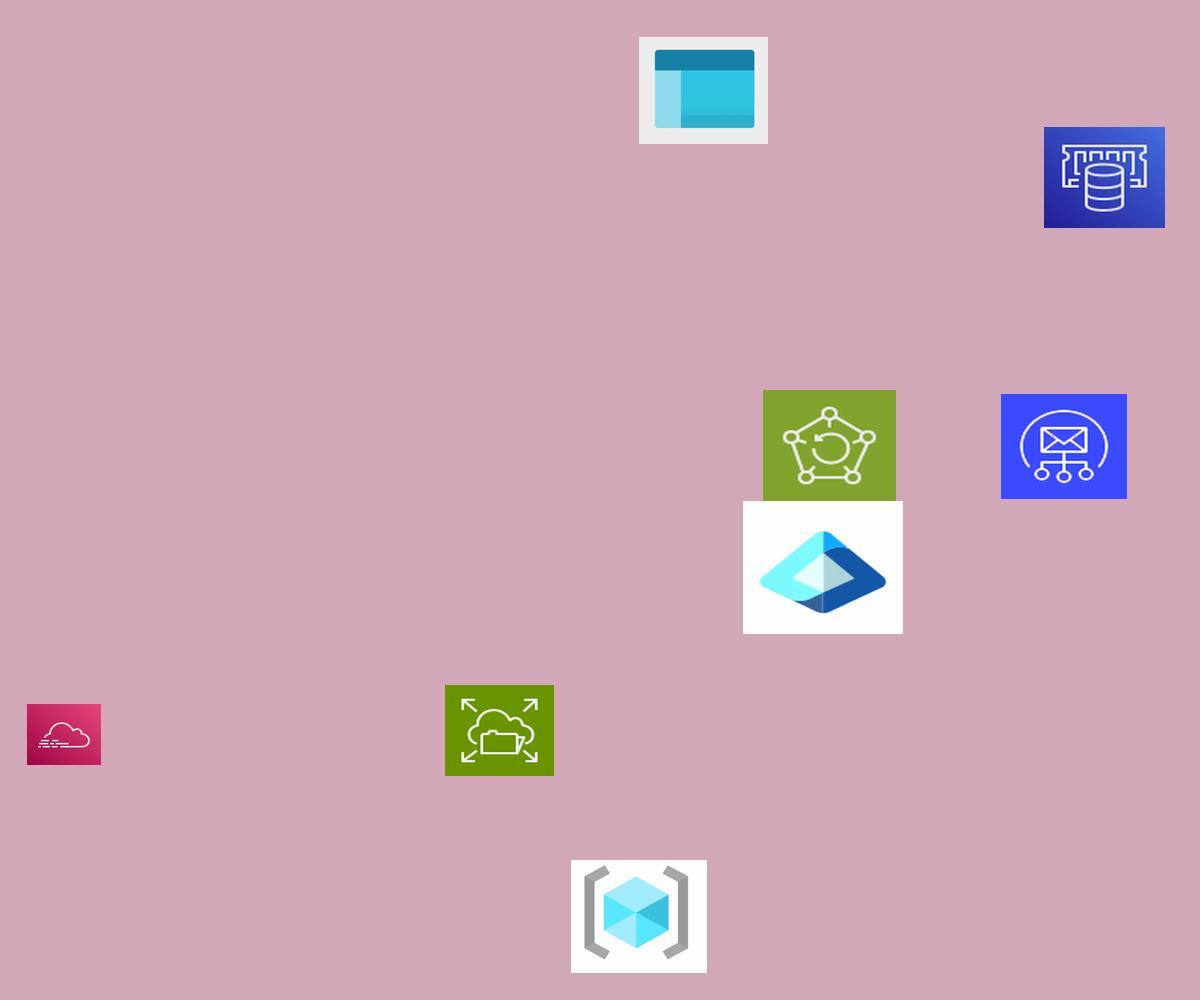AWS-Backup: (763, 390, 896, 501)
AWS-CloudTrail: (27, 704, 101, 765)
AWS-EFS: (445, 685, 554, 776)
AWS-ElastiCache: (1044, 127, 1165, 228)
AWS-Simple-Email-Service: (1001, 394, 1127, 499)
Azure_management-portal: (639, 37, 768, 144)
Azure_microsoft_entra: (743, 501, 903, 634)
Azure_resource_group: (571, 860, 707, 973)
